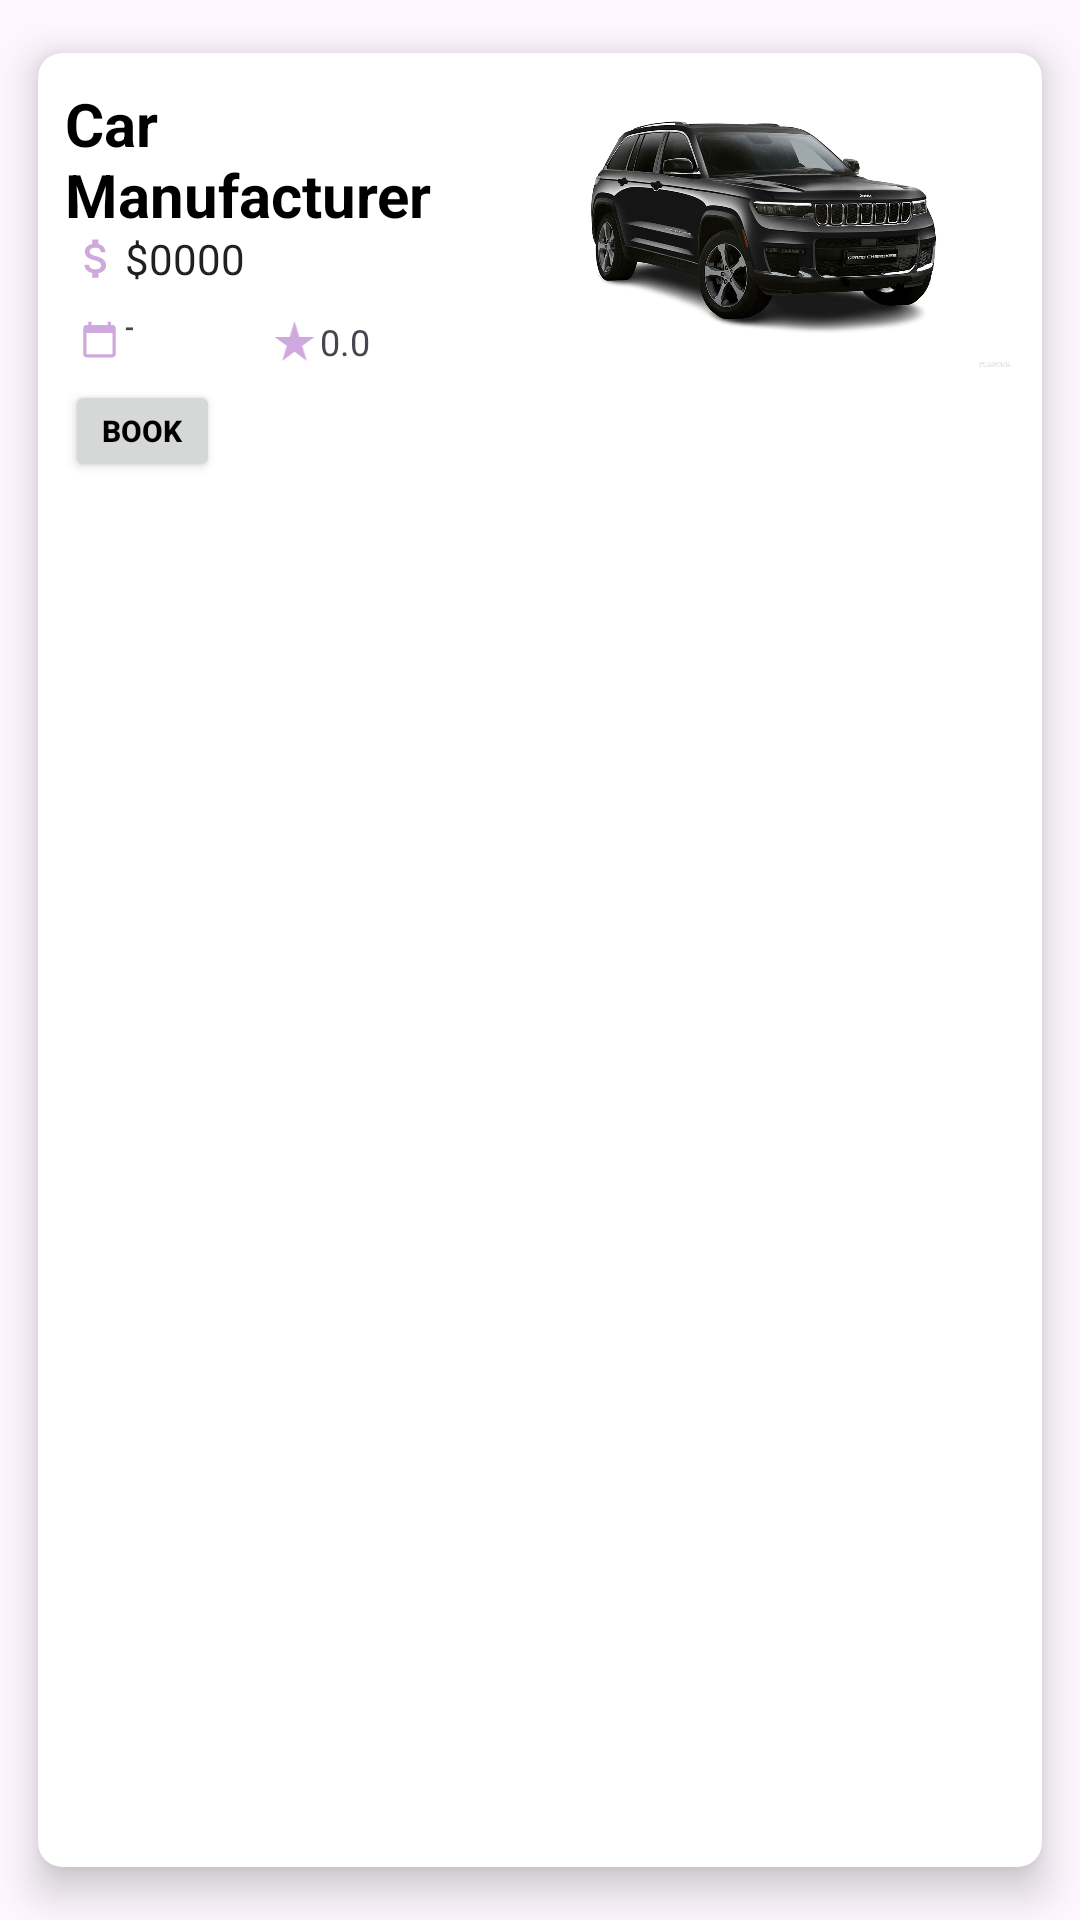

Named icons in this screenshot (1080x1920) and their bounding boxes, (x1, y1, x2, y2):
attach money: (84, 239, 106, 278)
calendar today: (83, 322, 116, 358)
rating: (275, 322, 314, 360)
